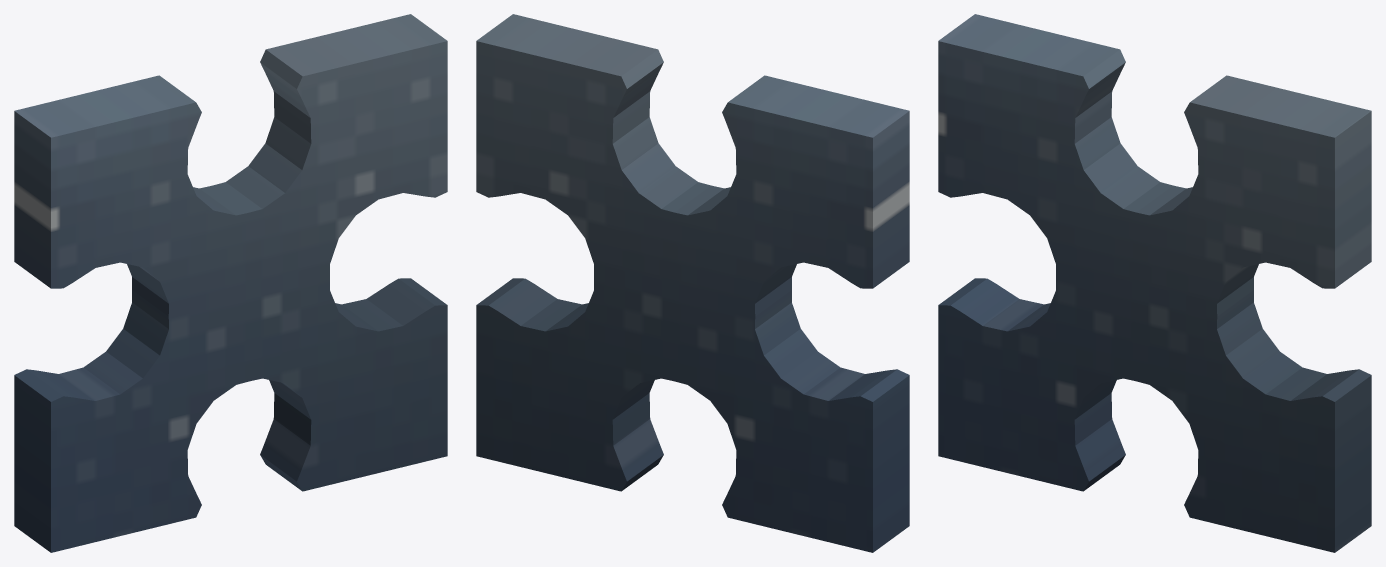
File: Pieces_6_007.fbx
3 views of the same model, side by side, from view 1: azimuth 30°, elevation 25°; view 2: azimuth 150°, elevation 25°; view 3: azimuth 330°, elevation 25° (orthographic).
Visible parts, largest first — view 1: Pieces 6.007; view 2: Pieces 6.007; view 3: Pieces 6.007.
Boxes of the visible parts, box(x1,y1,x2,y2) form: Pieces 6.007: box(14, 14, 447, 552); Pieces 6.007: box(476, 14, 909, 552); Pieces 6.007: box(938, 14, 1371, 552).
Bounding box in the file's own units: 80.52 × 80.52 × 12.98.
